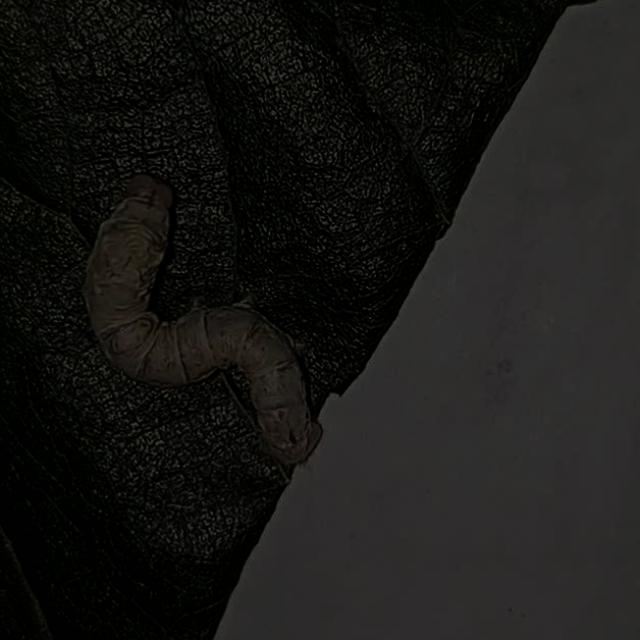Healthy: (68, 152, 340, 477)
